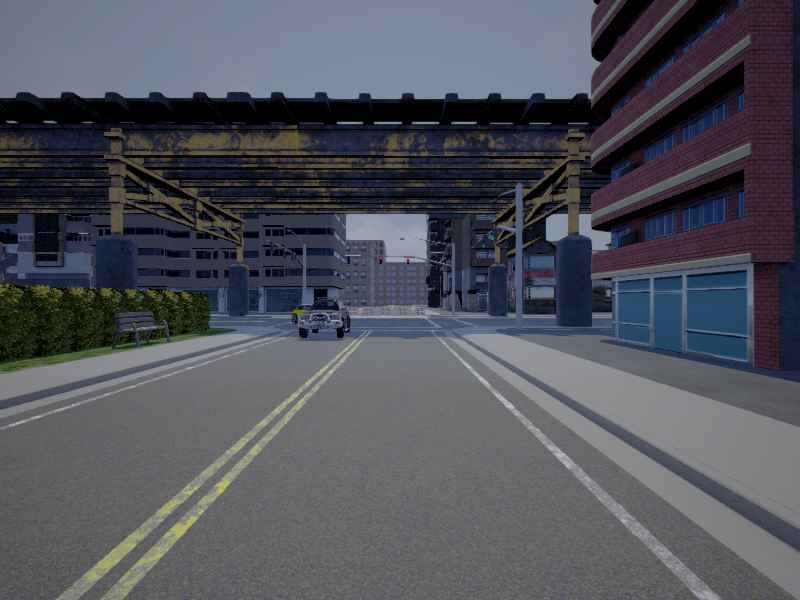Benign: (301, 299, 352, 339), (293, 303, 321, 323)
